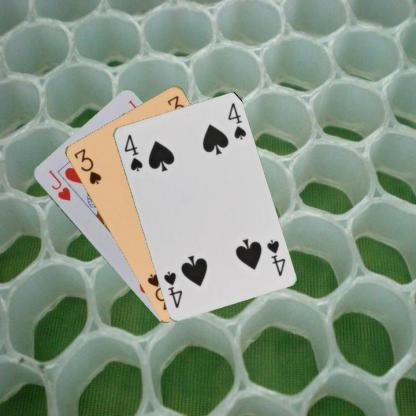3s: (70, 146, 103, 186)
4s: (121, 131, 144, 173), (264, 236, 286, 278)
Jh: (45, 167, 72, 202)
